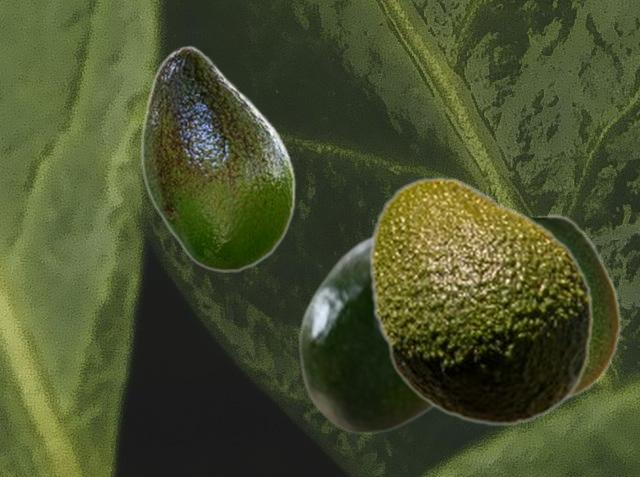avocado: (368, 176, 593, 426), (141, 45, 295, 271), (297, 232, 435, 434), (526, 214, 620, 398)
